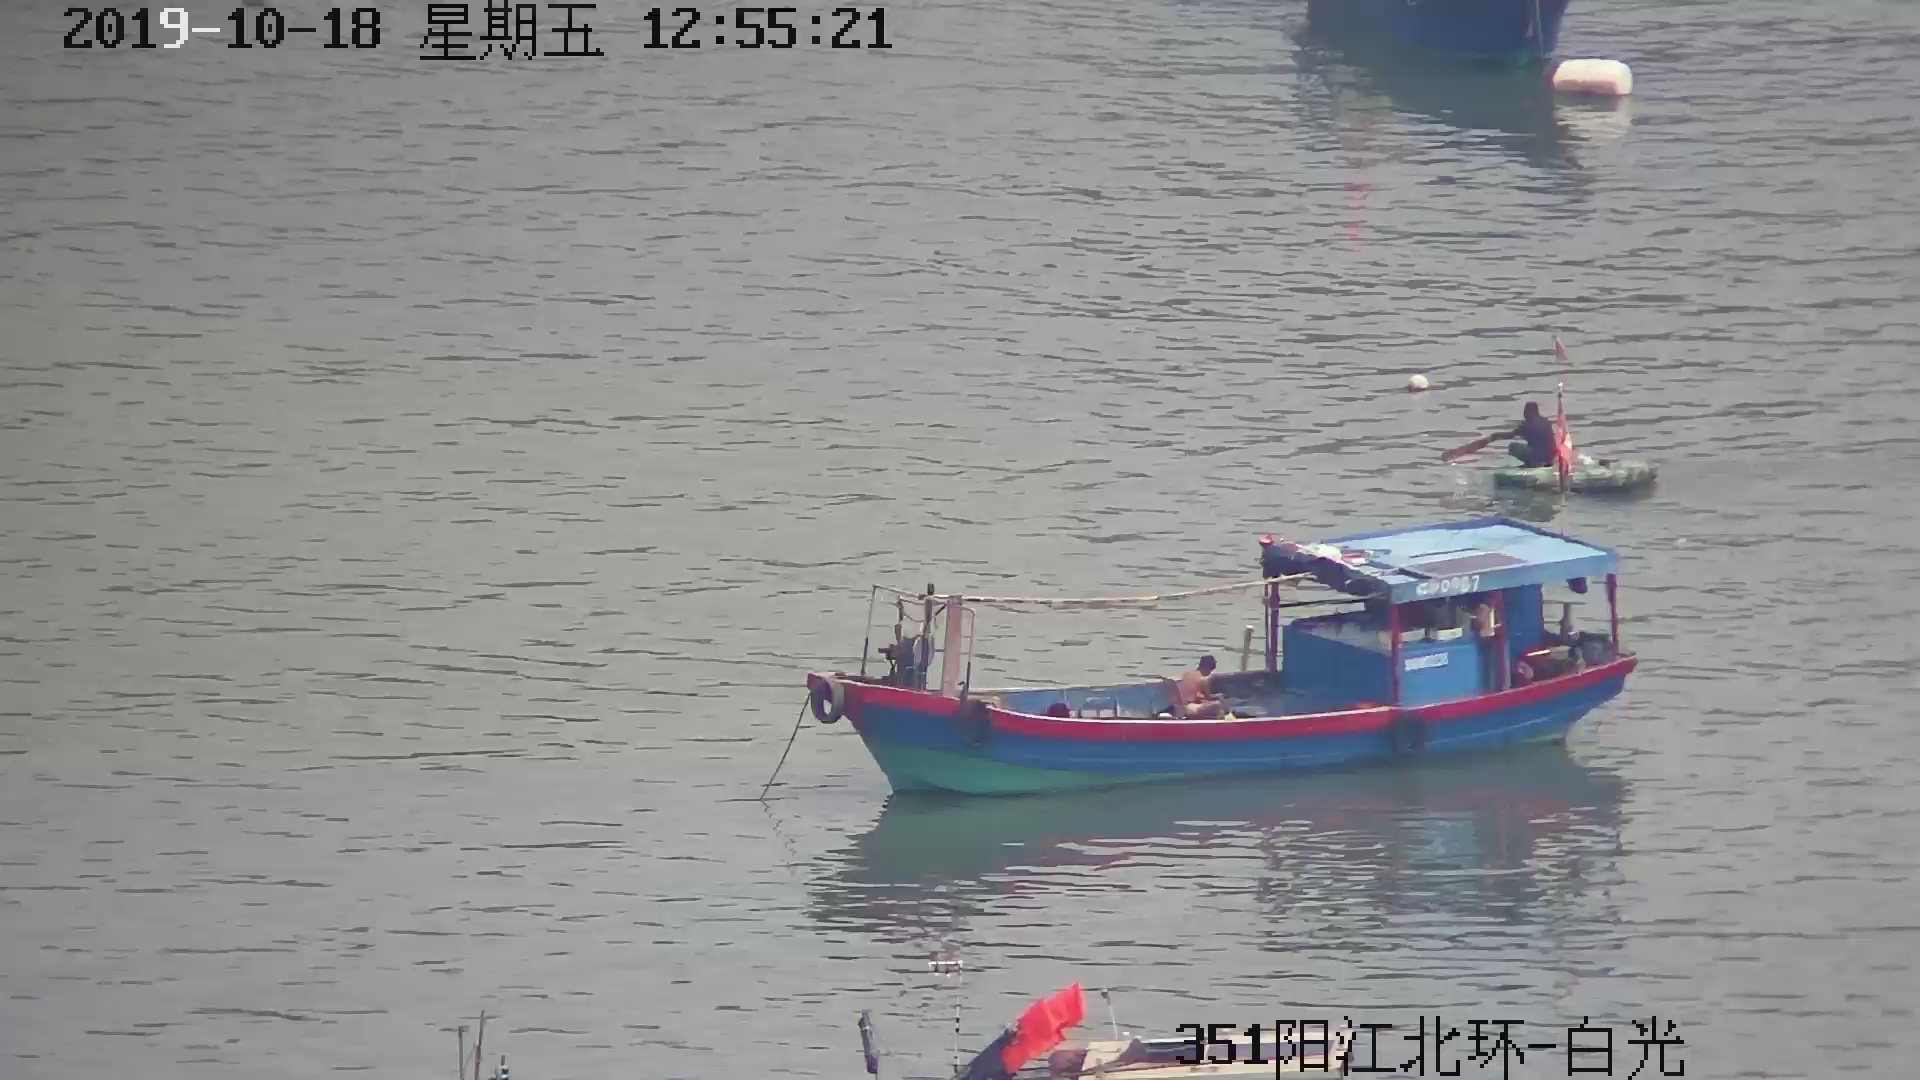ship: (810, 497, 1638, 798)
